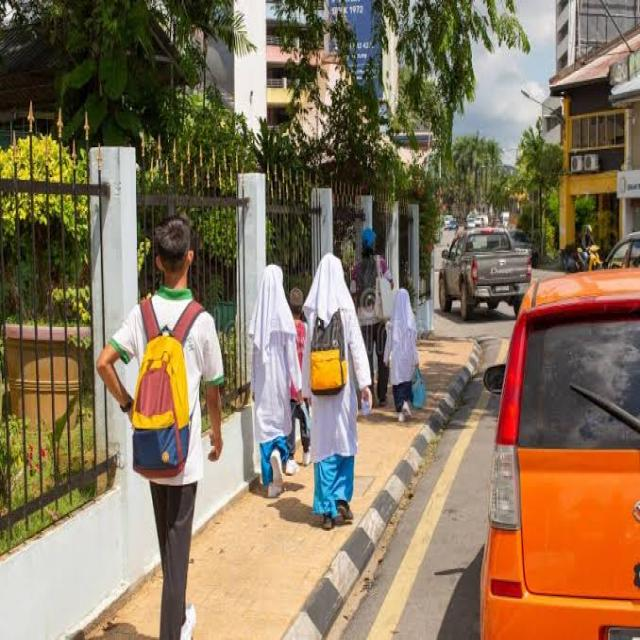Person: (96, 212, 231, 640), (299, 244, 376, 528), (244, 238, 299, 510), (387, 286, 429, 427)
